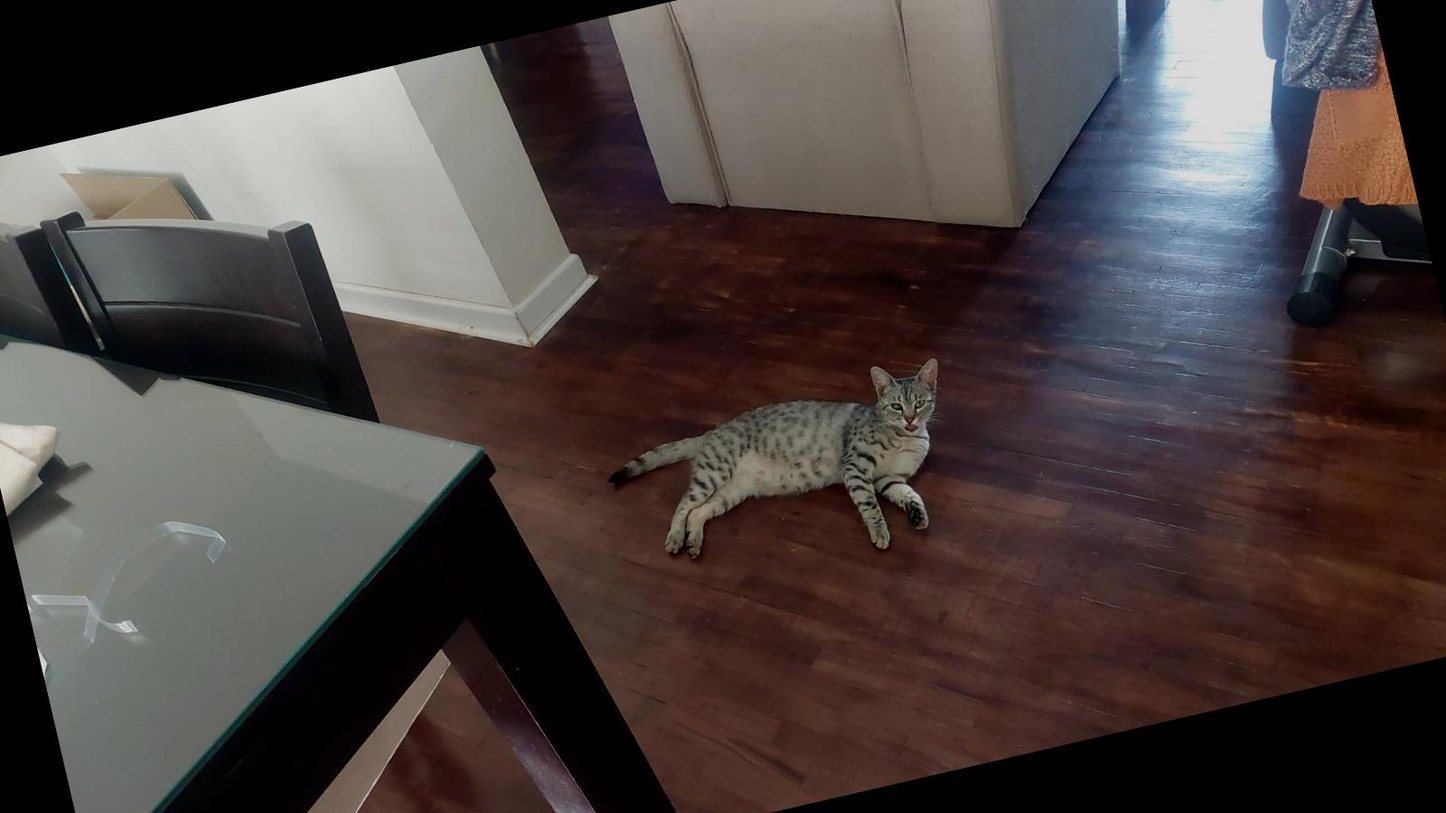macka: (595, 350, 976, 607)
